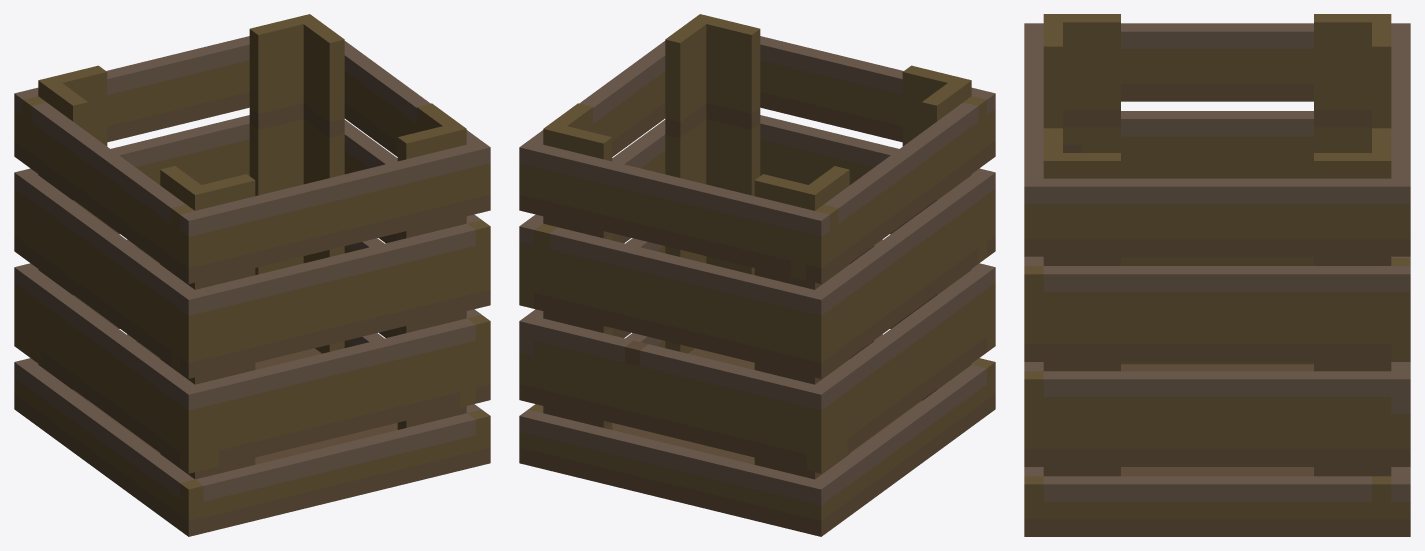
The model's file is box_big.obj.
The picture shows the model from 3 angles, left to right: view 1: azimuth 30°, elevation 25°; view 2: azimuth 150°, elevation 25°; view 3: azimuth 270°, elevation 25°; orthographic projection. The views are drawn at different scales.
Bounding box in the file's own units: 2 × 2.1 × 2.
Materials: 1 (1 with a texture image).
